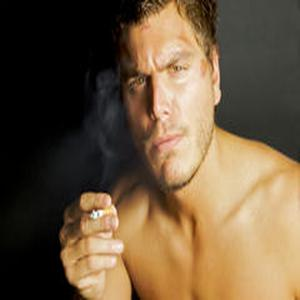cigarette: (89, 204, 116, 223)
